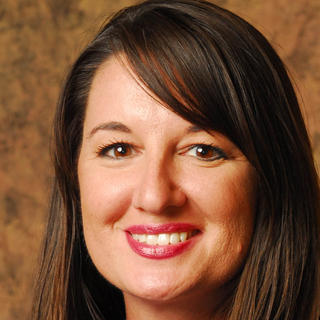eye: (180, 140, 227, 164), (95, 139, 140, 164)
